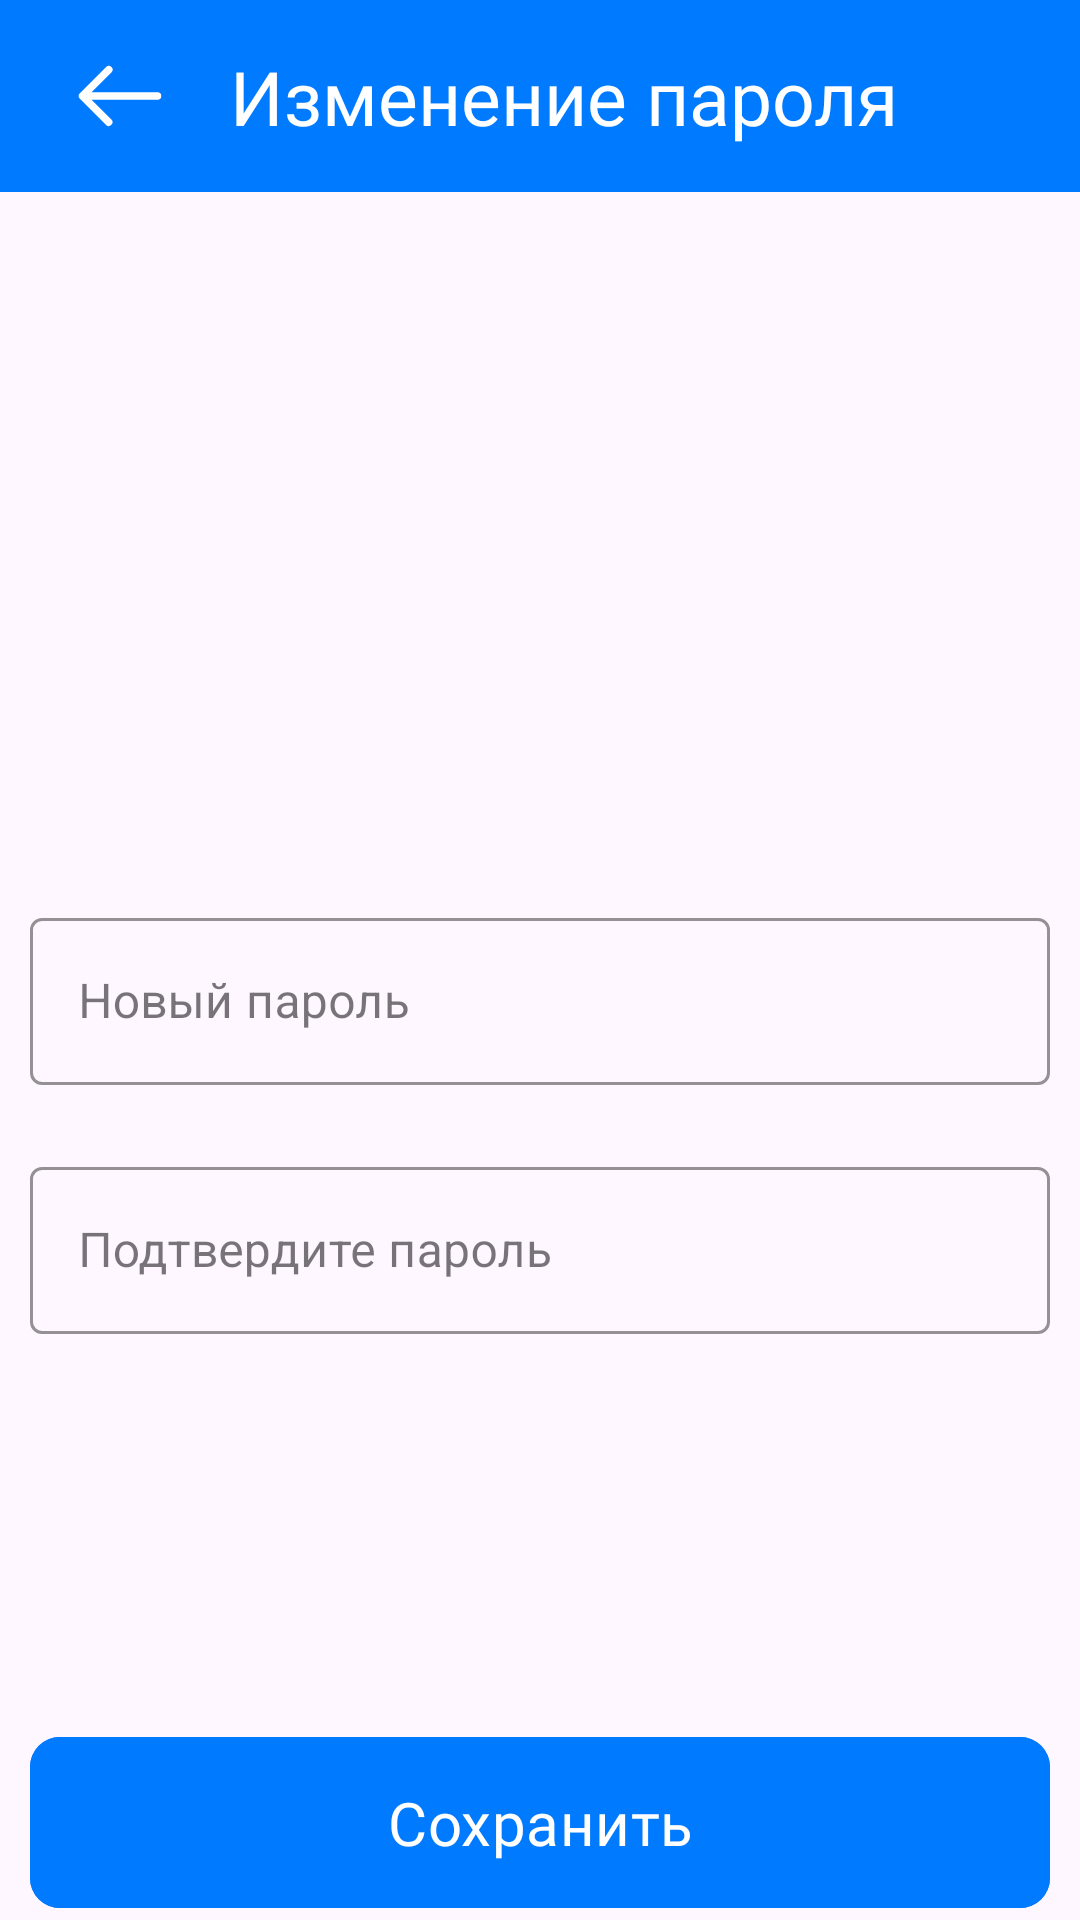

Locate icon controls on the screen. Image size 1080*1920, boxes as (x1, y1, x2, y2).
back: (78, 65, 162, 127)
